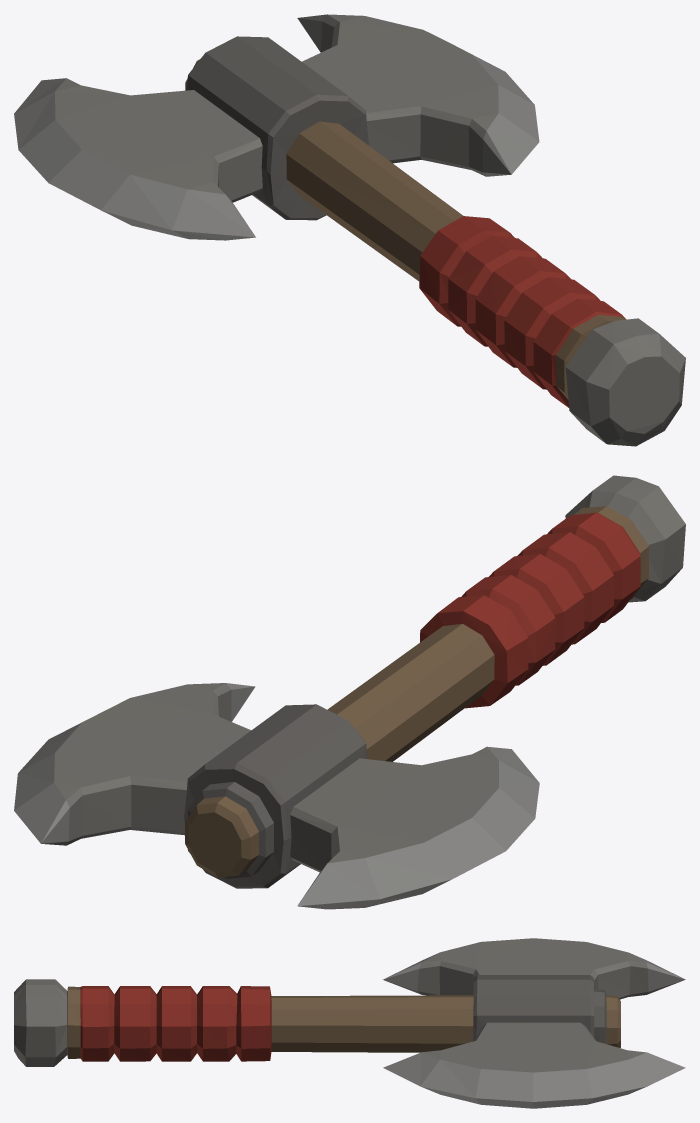
The model's file is DoubleHeadedWarAxe.fbx.
3 renders of one model, top to bottom at view 1: azimuth 30°, elevation 25°; view 2: azimuth 150°, elevation 25°; view 3: azimuth 270°, elevation 25°, orthographic. The views are drawn at different scales.
Visible parts, largest first — view 1: DoubleHeadedWarAxe; view 2: DoubleHeadedWarAxe; view 3: DoubleHeadedWarAxe.
Boxes of the visible parts, x1,y1,x2,y2 form: DoubleHeadedWarAxe: [14, 14, 685, 446]; DoubleHeadedWarAxe: [14, 475, 685, 909]; DoubleHeadedWarAxe: [14, 938, 685, 1108].
Size of the model in its own units: 0.5274 by 0.9499 by 0.1387.
